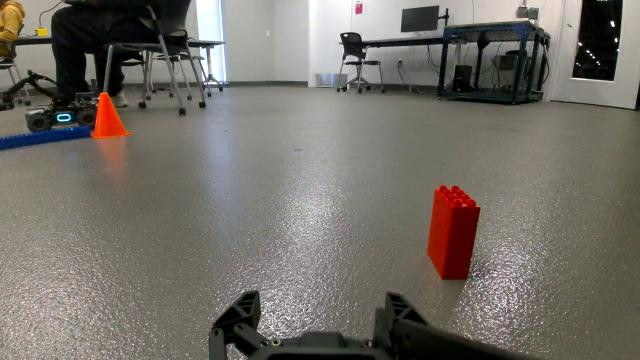lego: (401, 172, 501, 292)
